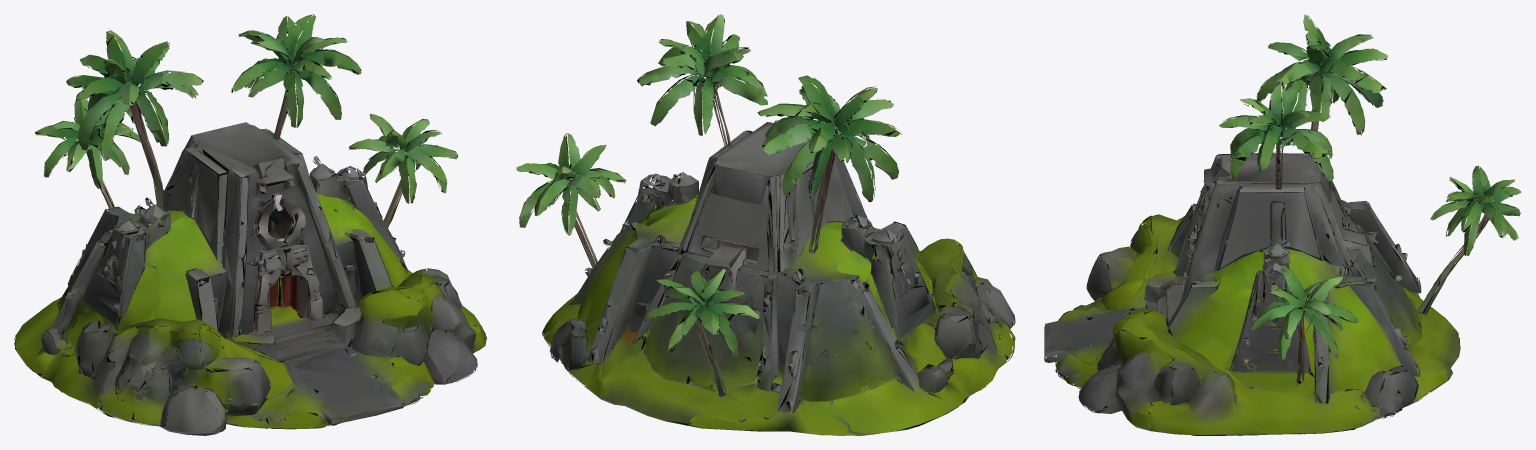
Rendered from pillio-observatory.glb.
3 views of the same model, side by side, from view 1: azimuth 30°, elevation 25°; view 2: azimuth 150°, elevation 25°; view 3: azimuth 270°, elevation 25° (orthographic). The views are drawn at different scales.
Parts seen in each view (by area): view 1: low; view 2: low; view 3: low.
Boxes of the visible parts, x1,y1,x2,y2 form: low: (14,14,486,435); low: (516,14,1015,435); low: (1044,14,1521,435).
Size of the model in its own units: 0.9687 by 0.6488 by 1.
Materials: 1 (1 with a texture image).
